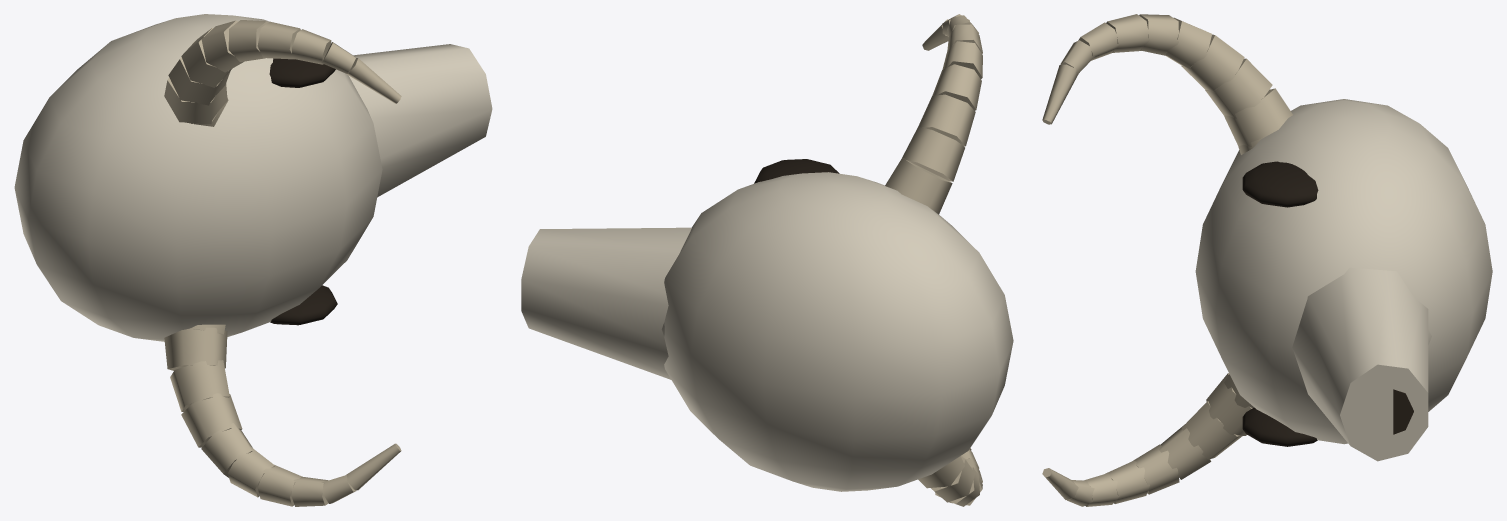
The model's file is skull.glb.
The picture shows the model from 3 angles, left to right: view 1: azimuth 30°, elevation 25°; view 2: azimuth 150°, elevation 25°; view 3: azimuth 270°, elevation 25°; orthographic projection. The views are drawn at different scales.
Visible parts, largest first — view 1: SkullMesh; view 2: SkullMesh; view 3: SkullMesh.
Part boxes in pixels (<box>): SkullMesh: <box>14,14,492,506</box>; SkullMesh: <box>521,14,1013,506</box>; SkullMesh: <box>1042,14,1492,506</box>.
Size of the model in its own units: 1.19 by 1.17 by 1.
